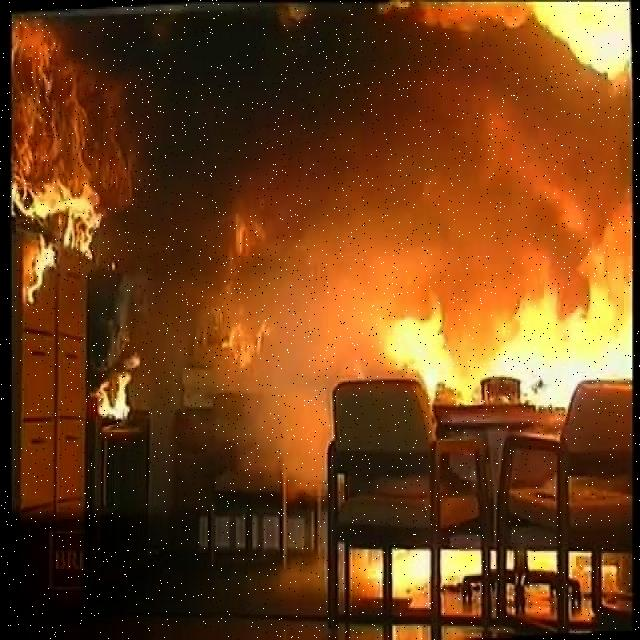fire: (378, 162, 640, 392), (10, 14, 133, 306), (199, 208, 285, 376), (102, 350, 160, 436)
